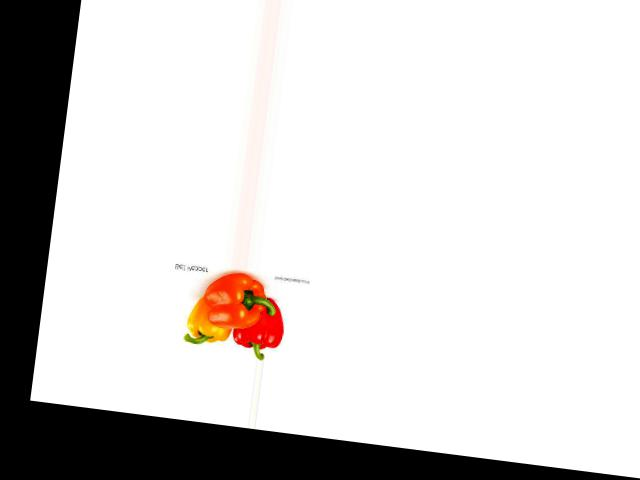bell_pepper: (180, 292, 237, 351)
